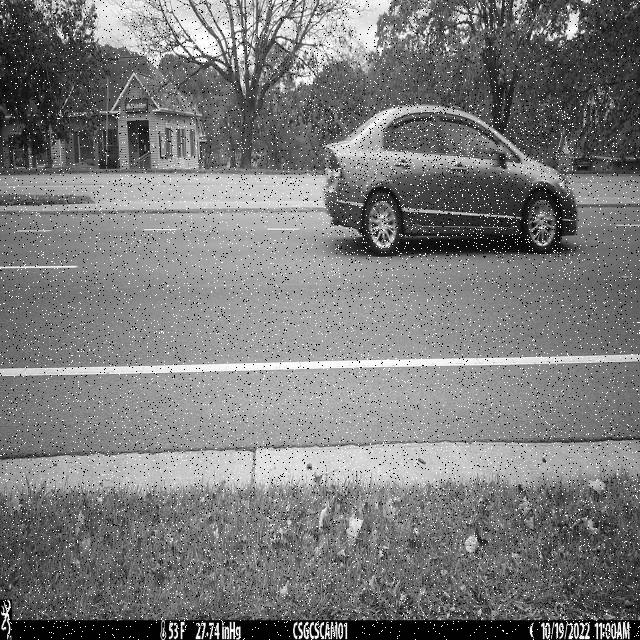Sedan: (322, 104, 577, 257)
